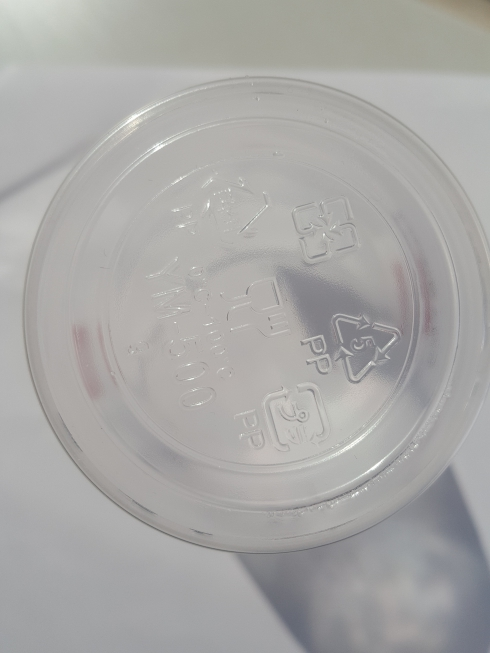recycle: (298, 289, 409, 387)
